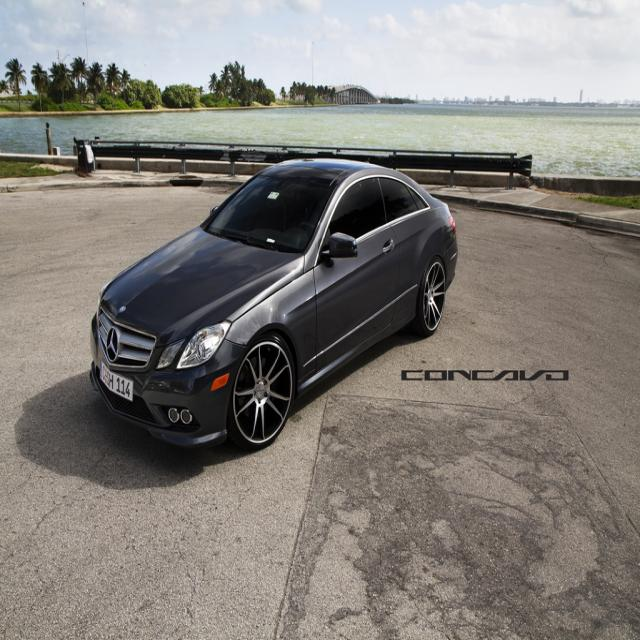car: (88, 156, 459, 455)
